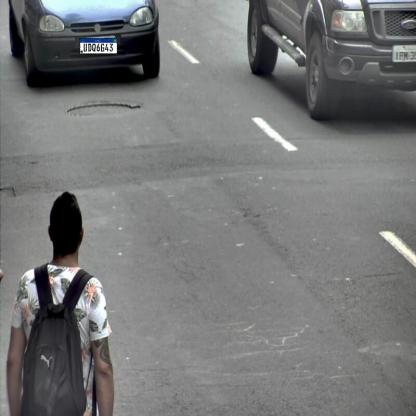PlacaM: (80, 38, 118, 54)
